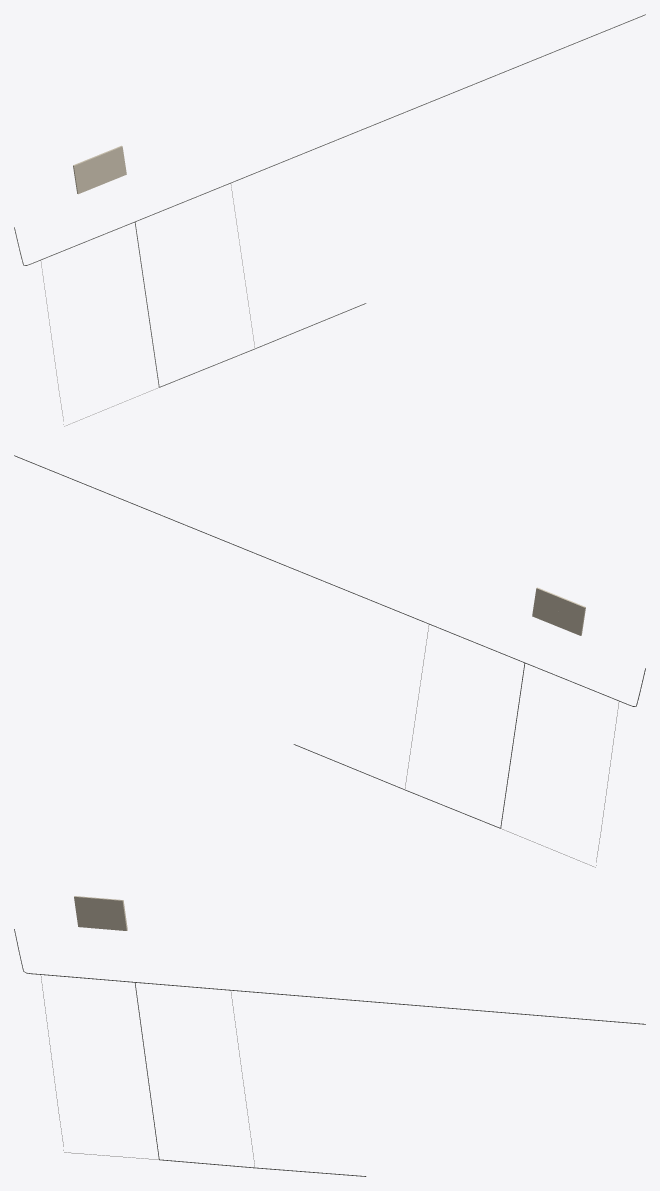
The model's file is historic-palestine-01_17_3431_3116.glb.
3 views of the same model, one above another, from view 1: azimuth 30°, elevation 25°; view 2: azimuth 150°, elevation 25°; view 3: azimuth 330°, elevation 25° (orthographic).
Parts seen in each view (by area): view 1: Building_, Road; view 2: Building_, Road; view 3: Building_, Road.
Boxes of the visible parts, box(x1,y1,x2,y2) form: Building_: box(73, 145, 126, 194); Road: box(14, 14, 645, 265); Building_: box(532, 587, 585, 635); Road: box(14, 455, 645, 706); Building_: box(74, 896, 127, 930); Road: box(14, 929, 645, 1024).
Bounding box in the file's own units: 2729 × 1116 × 8.7.
